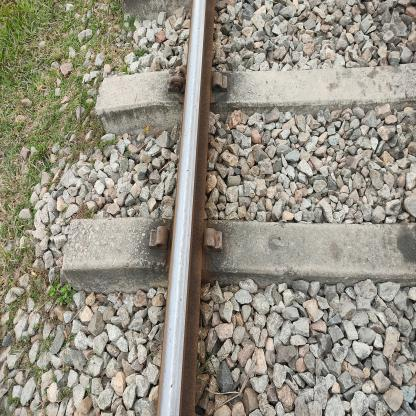Defective: (130, 219, 230, 281), (192, 62, 238, 115)
